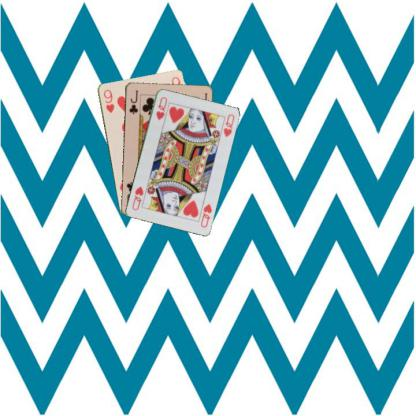9h: (101, 86, 116, 114)
Jc: (127, 87, 139, 115)
Qh: (198, 201, 213, 229), (153, 95, 168, 122)
